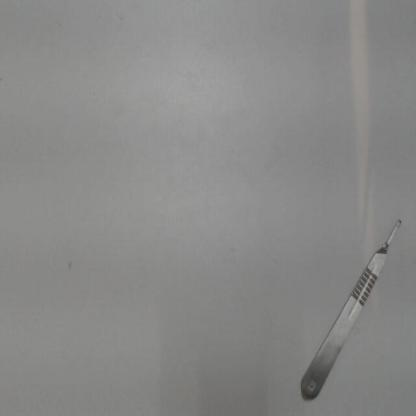No.3 BP Handle: (297, 208, 408, 407)
